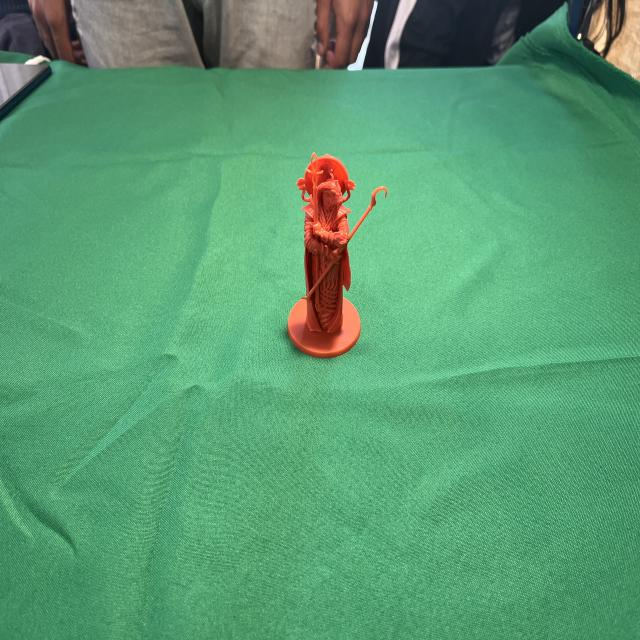amon: (284, 150, 391, 362)
